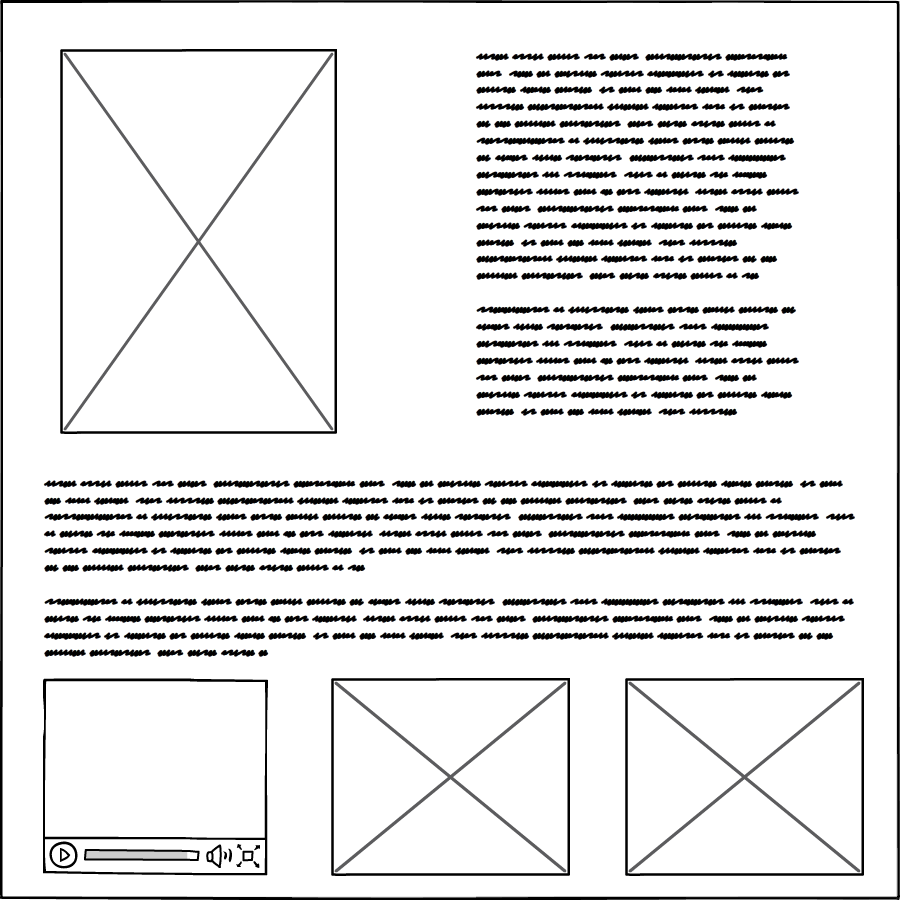image: (55, 44, 341, 440), (328, 671, 575, 882), (622, 674, 870, 878)
p: (38, 469, 861, 660), (474, 44, 826, 433)
video: (39, 674, 272, 878)
